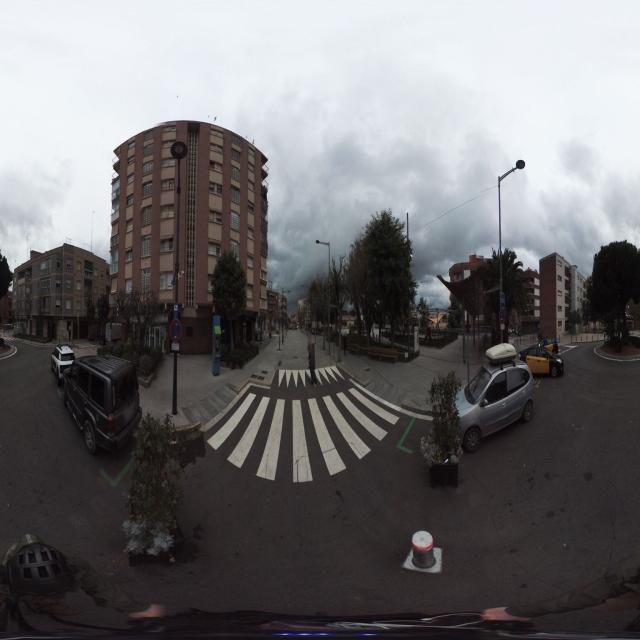forb_stopping: (169, 321, 181, 341), (499, 307, 506, 325)
